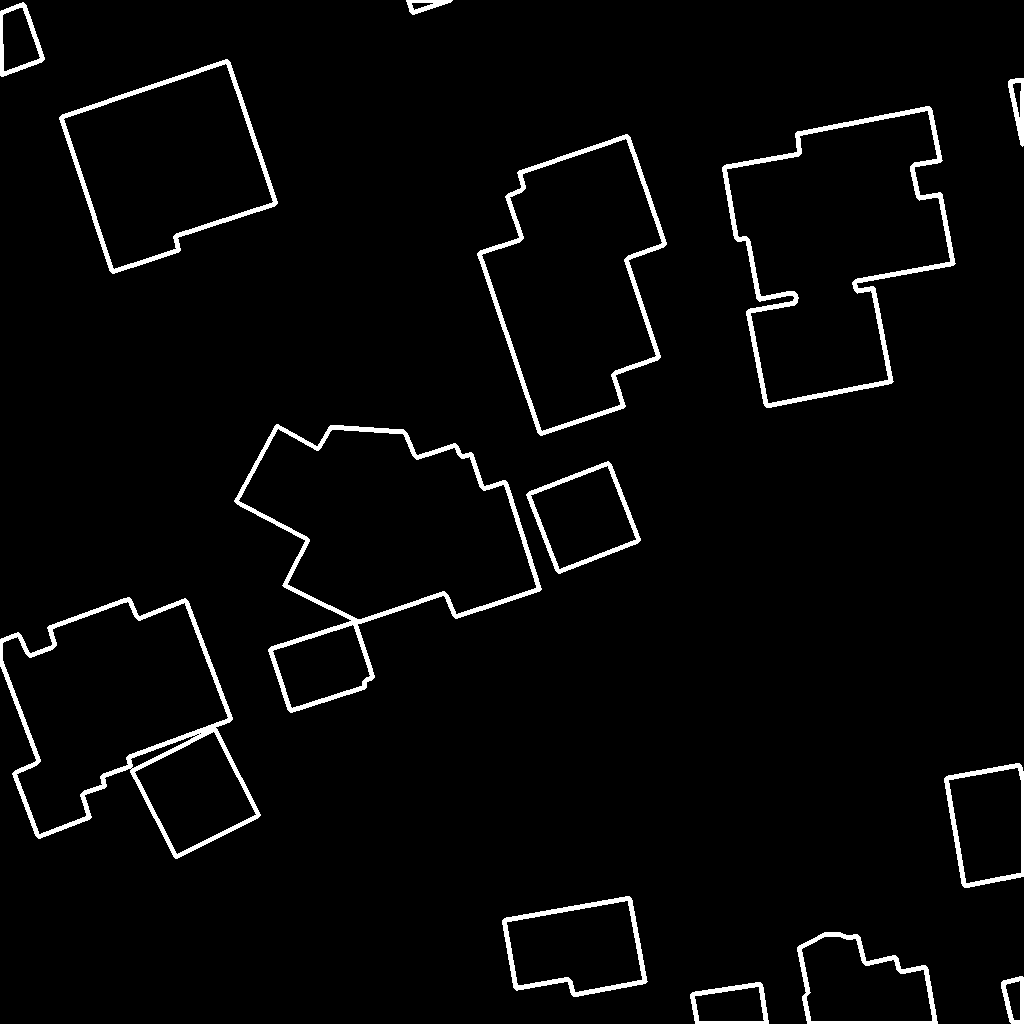building: (724, 108, 954, 407), (236, 426, 541, 623), (479, 136, 666, 435), (0, 599, 232, 838), (61, 61, 277, 273), (132, 729, 260, 858), (504, 898, 646, 996), (799, 934, 937, 1024), (528, 463, 640, 573), (946, 765, 1024, 887), (270, 622, 374, 712), (0, 4, 44, 76), (692, 984, 768, 1024), (1003, 978, 1024, 1024), (1010, 80, 1024, 148), (408, 0, 453, 14)
